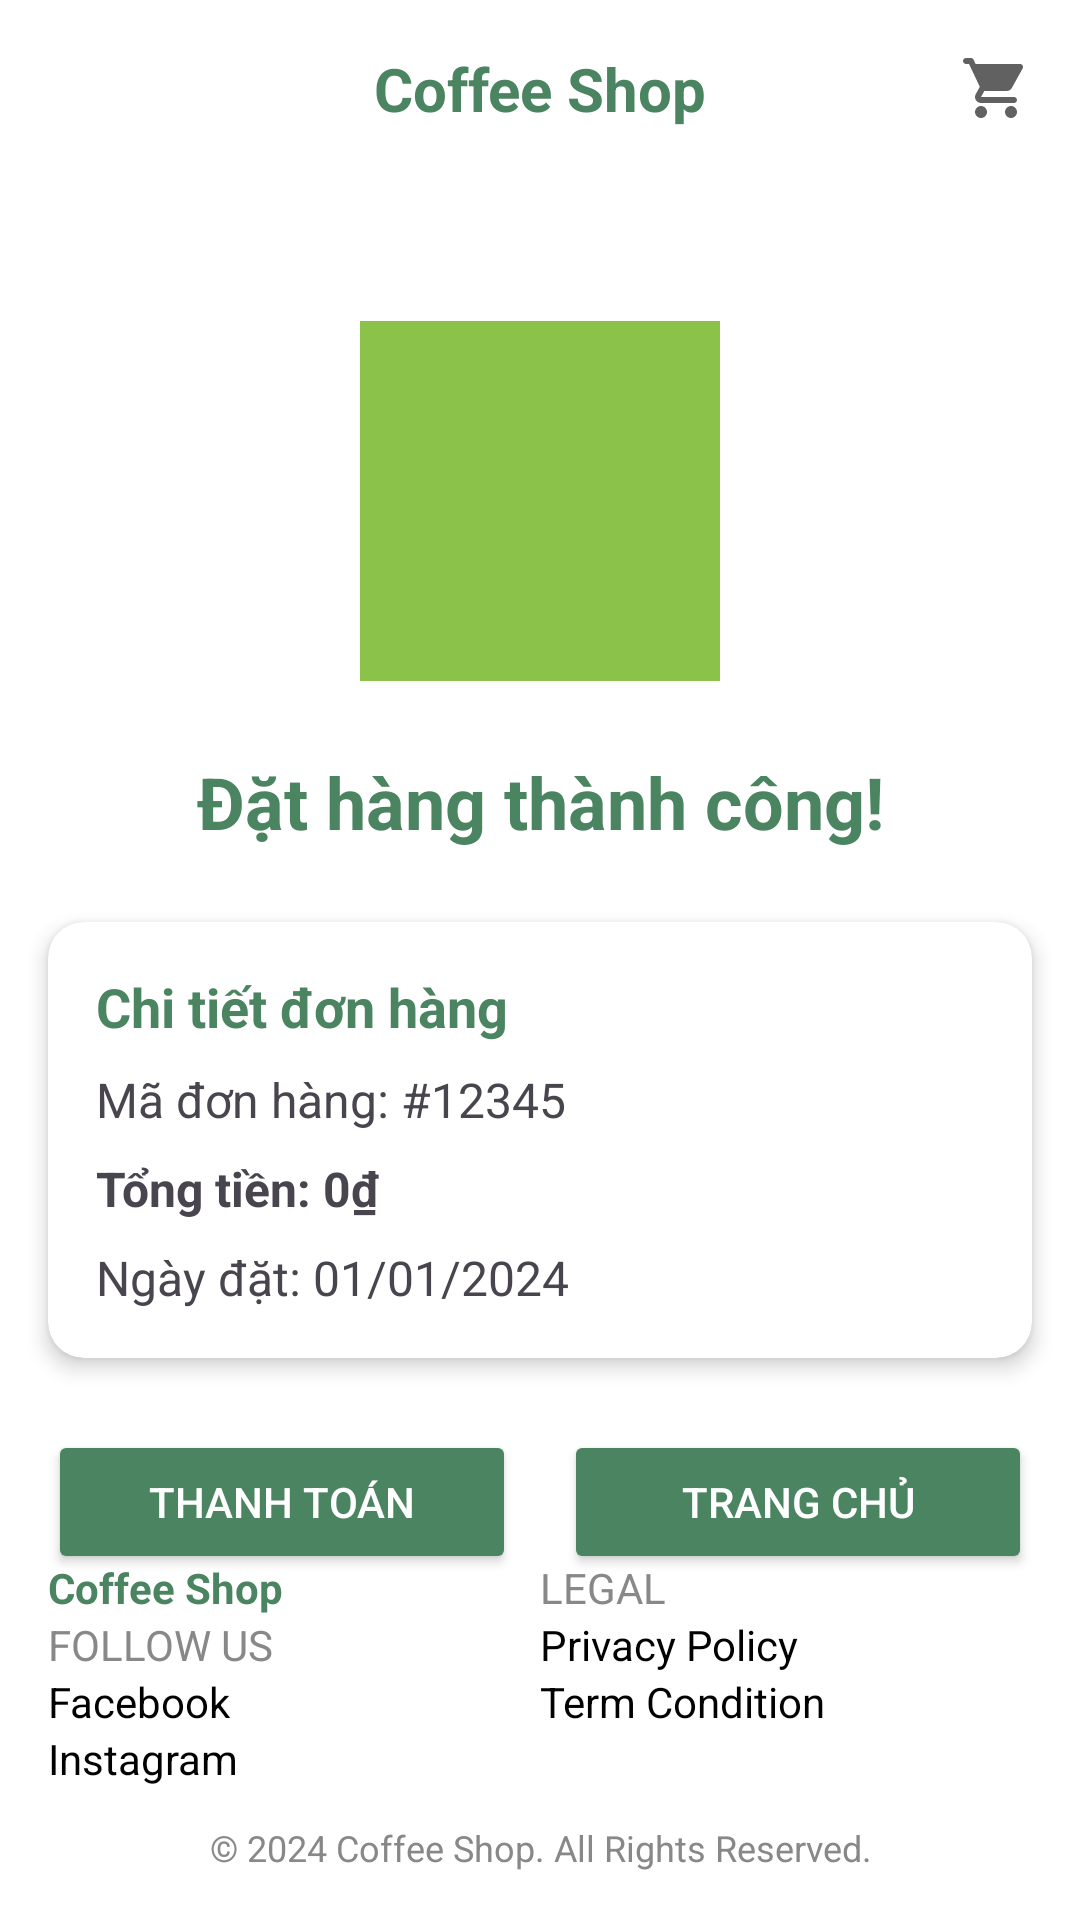

Named icons in this screenshot (1080*1920) and their centers, (x,y):
Cart: (993,88)
